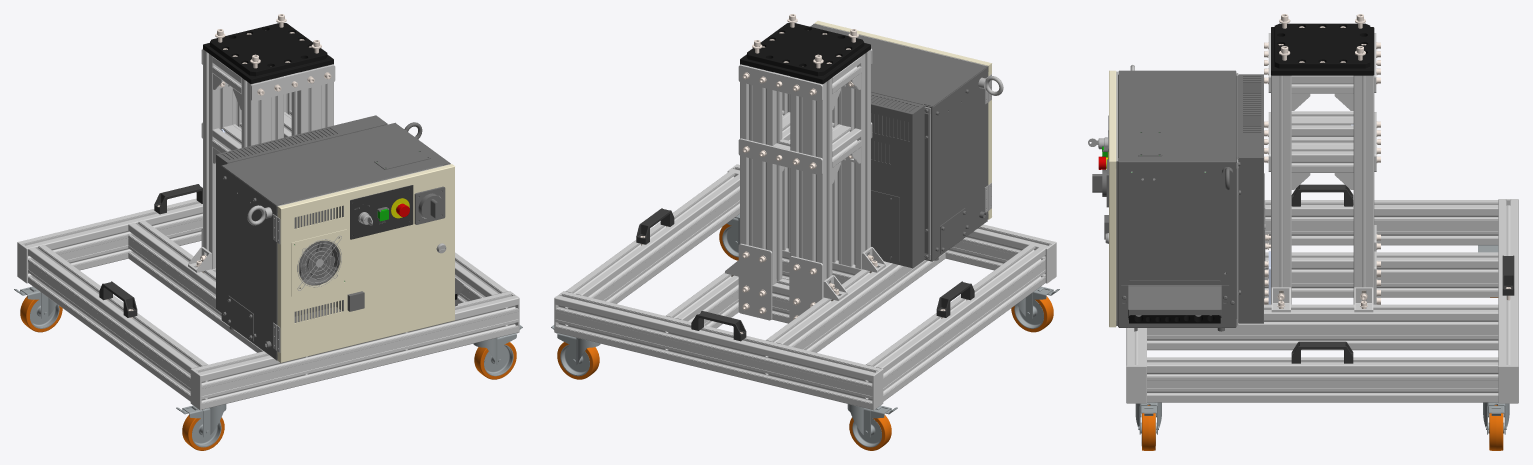
The model's file is Pedestal_Fanuc_FBX_.fbx.
3 renders of one model, left to right at view 1: azimuth 30°, elevation 25°; view 2: azimuth 150°, elevation 25°; view 3: azimuth 270°, elevation 25°, orthographic. The views are drawn at different scales.
Parts seen in each view (by area): view 1: Cut-Extrude1[1] (×3), Mover face2 (×7), Corte-extrusão1 (×2), Fillet6, Cut-Extrude1[3], Filete1, 02 003 0009.STEP<1> (×2), FKS-019.STEP<1>[3] (×2), Cut-Extrude1[2] (×2), Cut-Extrude1[4], Mover face1; view 2: Mover face2 (×11), Cut-Extrude1[1] (×3), Corte-extrusão1 (×2), Filete1 (×4), Body-Move/Copy1, Fillet6, 02 003 0009.STEP<1> (×3), FKS-019.STEP<1>[3] (×2), Cut-Extrude1[2] (×2), Cut-Extrude1[3], Mover face1; view 3: Mover face2 (×8), Cut-Extrude1[1] (×3), Fillet6, Corte-extrusão1 (×2), Cut-Extrude1[3], 02 003 0009.STEP<1> (×3), 02 003 0008 (45 x 90).STEP<1> (×2), Mover face1, 02 001 0050.STEP<1> (×2), Body-Move/Copy1.
Part boxes in pixels (left/top/right/bottom): Cut-Extrude1[1] (×3): left=182, top=115, right=516, bottom=450; Mover face2 (×7): left=28, top=49, right=508, bottom=401; Corte-extrusão1 (×2): left=19, top=198, right=518, bottom=409; Fillet6: left=203, top=23, right=333, bottom=83; Cut-Extrude1[3]: left=217, top=116, right=387, bottom=163; Filete1: left=251, top=64, right=335, bottom=101; 02 003 0009.STEP<1> (×2): left=99, top=184, right=202, bottom=317; FKS-019.STEP<1>[3] (×2): left=182, top=333, right=516, bottom=437; Cut-Extrude1[2] (×2): left=192, top=344, right=513, bottom=447; Cut-Extrude1[4]: left=300, top=241, right=335, bottom=279; Mover face1: left=212, top=56, right=241, bottom=93; Mover face2 (×11): left=565, top=49, right=1045, bottom=401; Cut-Extrude1[1] (×3): left=557, top=21, right=1003, bottom=450; Corte-extrusão1 (×2): left=555, top=164, right=1054, bottom=409; Filete1 (×4): left=738, top=64, right=822, bottom=322; Body-Move/Copy1: left=871, top=103, right=913, bottom=268; Fillet6: left=740, top=23, right=870, bottom=83; 02 003 0009.STEP<1> (×3): left=636, top=208, right=974, bottom=341; FKS-019.STEP<1>[3] (×2): left=557, top=333, right=891, bottom=437; Cut-Extrude1[2] (×2): left=560, top=344, right=881, bottom=447; Cut-Extrude1[3]: left=871, top=92, right=923, bottom=113; Mover face1: left=832, top=56, right=861, bottom=93; Mover face2 (×8): left=1147, top=75, right=1498, bottom=402; Cut-Extrude1[1] (×3): left=1088, top=65, right=1503, bottom=450; Fillet6: left=1271, top=23, right=1374, bottom=75; Corte-extrusão1 (×2): left=1126, top=199, right=1518, bottom=365; Cut-Extrude1[3]: left=1238, top=74, right=1262, bottom=158; 02 003 0009.STEP<1> (×3): left=1291, top=184, right=1514, bottom=363; 02 003 0008 (45 x 90).STEP<1> (×2): left=1126, top=365, right=1518, bottom=403; Mover face1: left=1291, top=75, right=1353, bottom=93; 02 001 0050.STEP<1> (×2): left=1271, top=287, right=1373, bottom=312; Body-Move/Copy1: left=1262, top=74, right=1265, bottom=323.
Bounding box in the file's own units: 0.9244 × 0.8195 × 0.9381.
